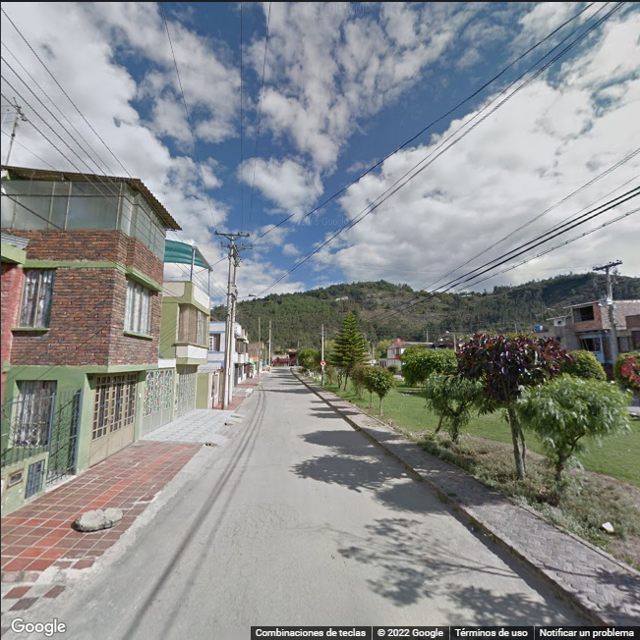D00: (236, 566, 253, 616)
D20: (227, 497, 298, 548)
